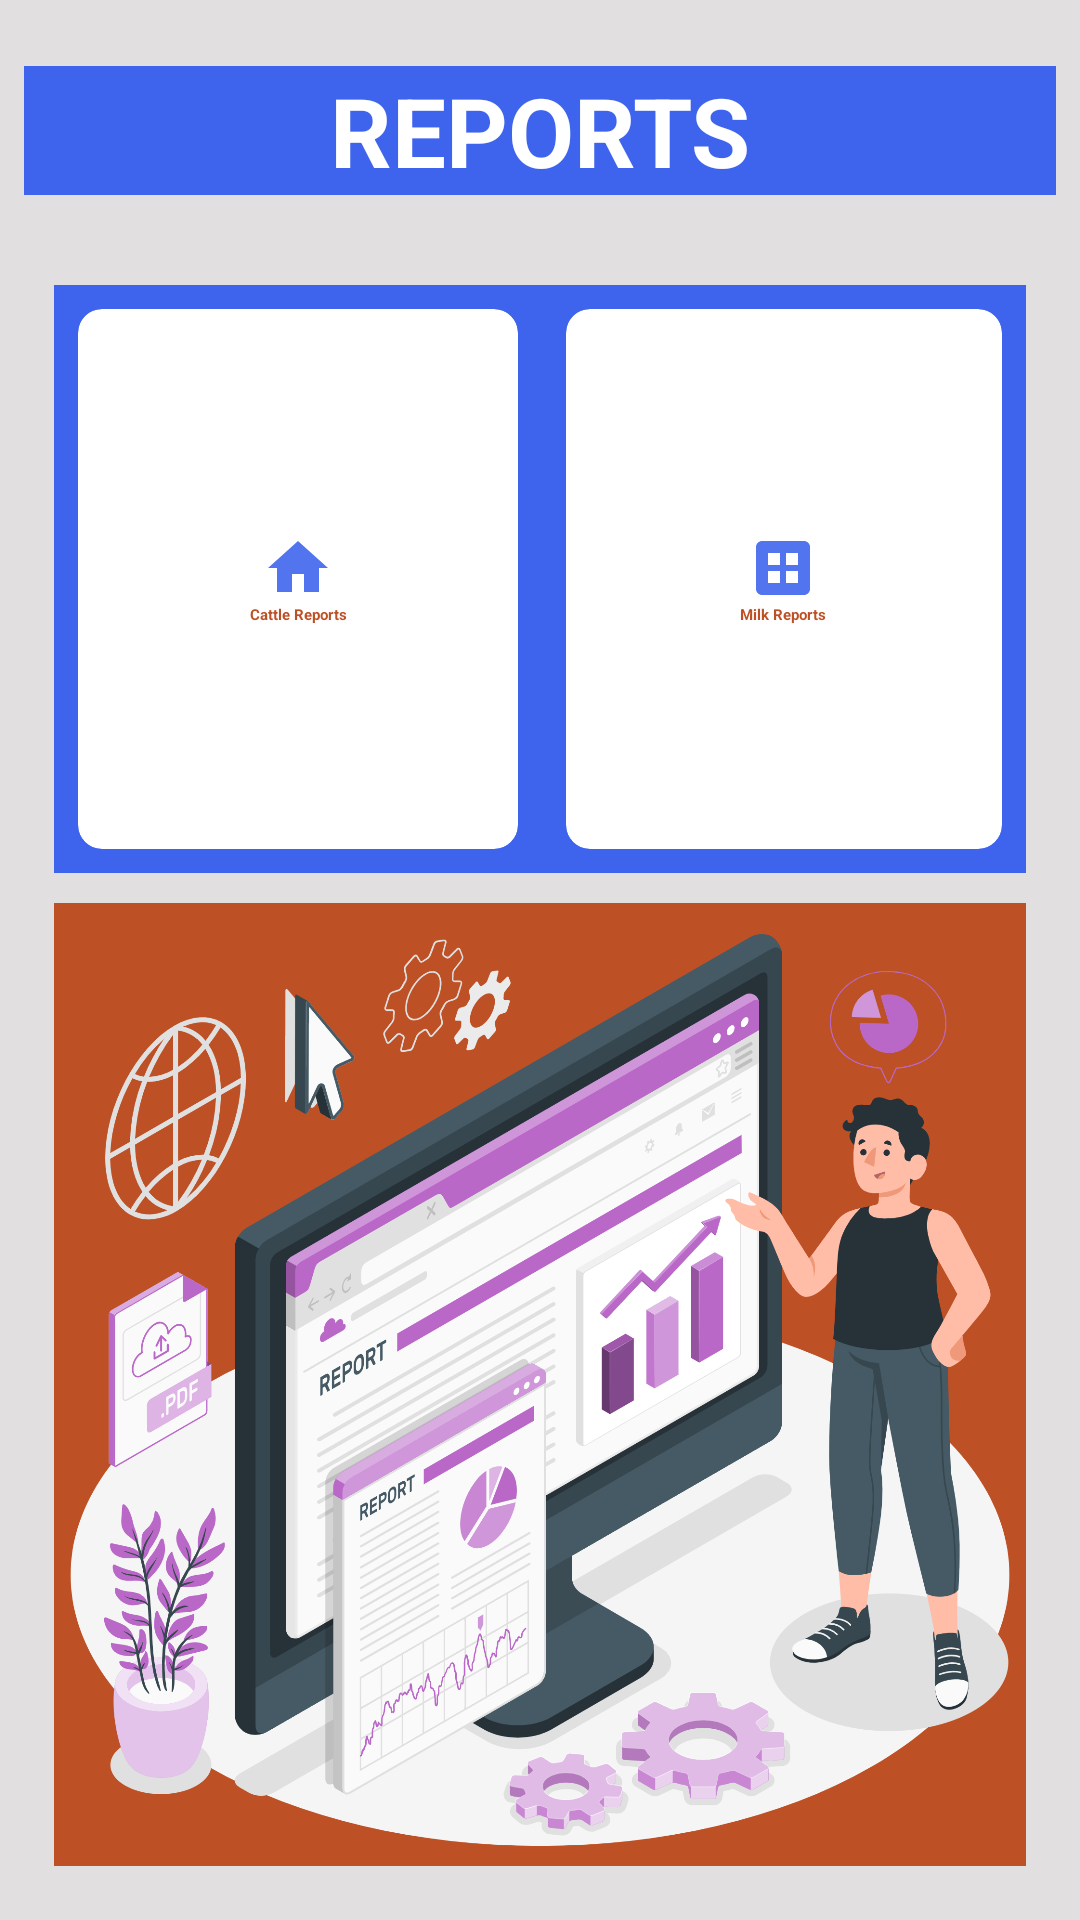

Screen size 1080*1920. Icon name, then its center in pixels as point (x, y):
home: point (298, 566)
